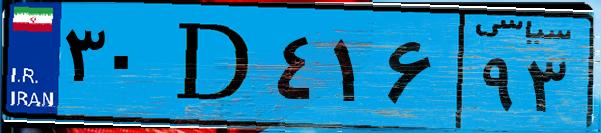0: (110, 28, 158, 98)
1: (330, 28, 385, 110)
3: (57, 26, 110, 100), (525, 38, 570, 115)
4: (270, 28, 330, 110)
6: (385, 28, 445, 110)
9: (475, 38, 525, 113)
D: (158, 12, 270, 120)
